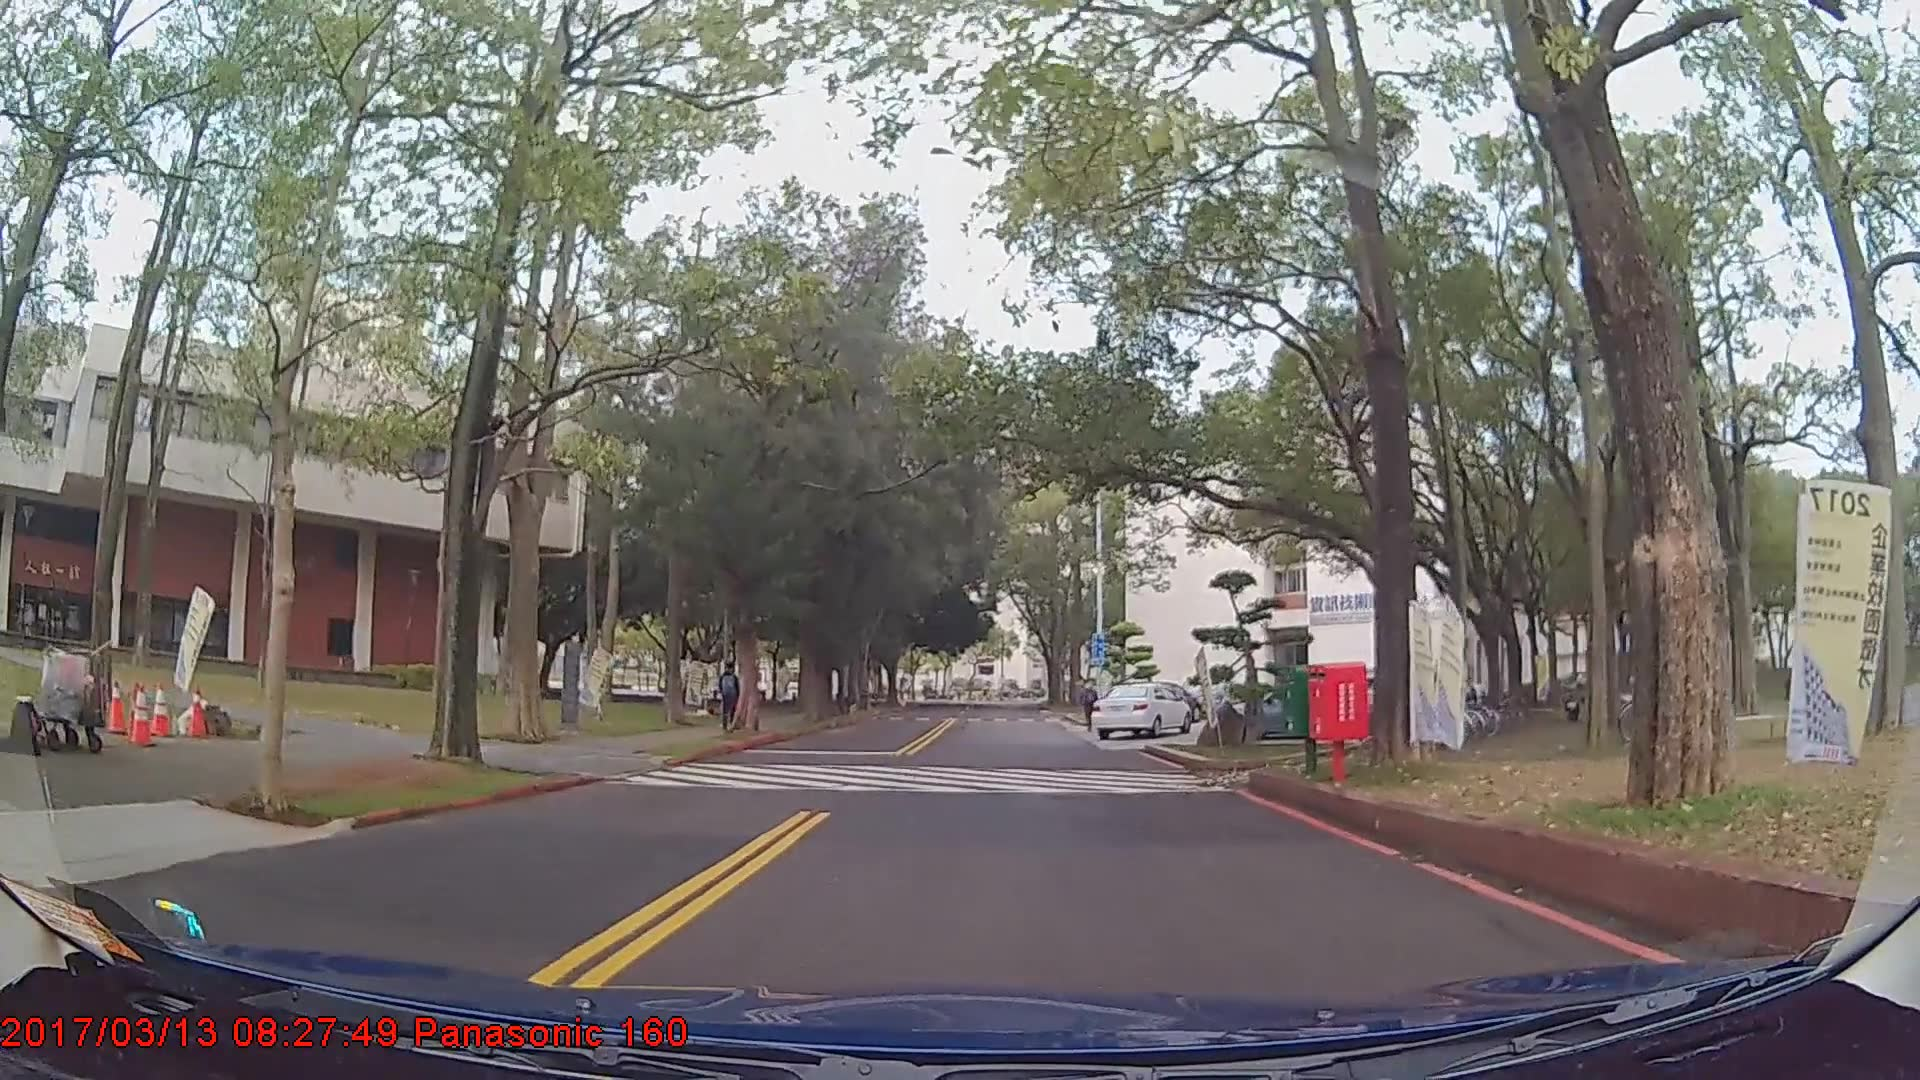pedestrian: (716, 659, 745, 728), (1080, 674, 1100, 729)
vehicle: (1091, 679, 1194, 738)
